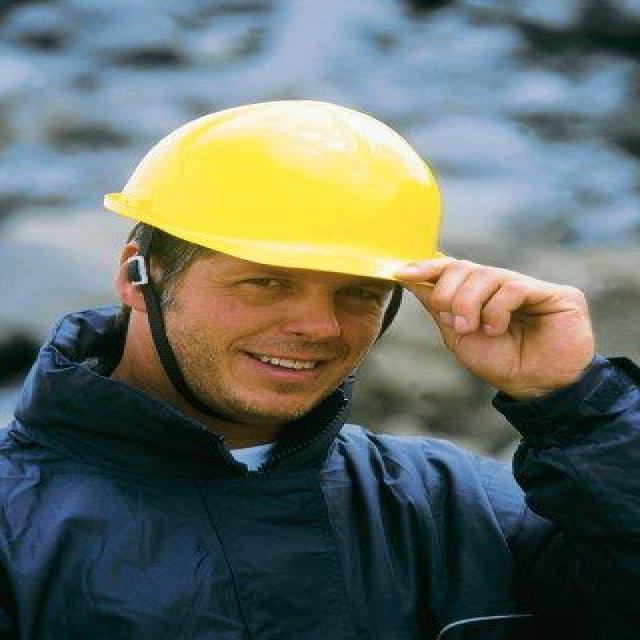Safety-Helmet: (98, 95, 458, 289)
